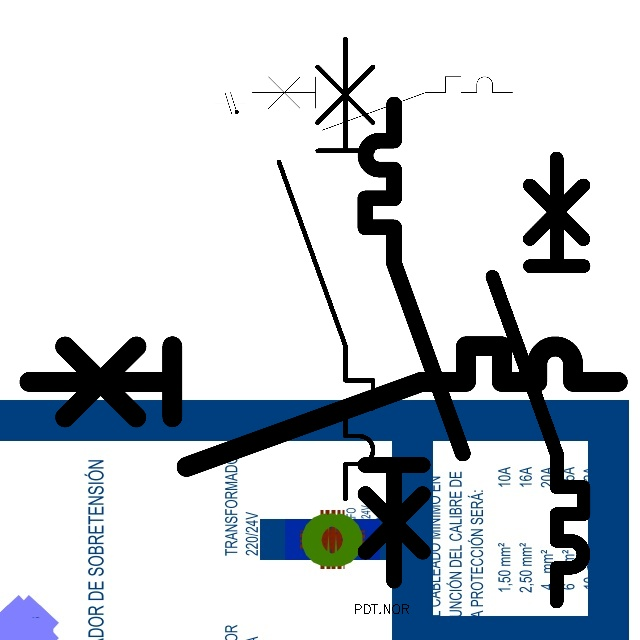interruptor_termomagnetico: (14, 331, 633, 482), (353, 92, 475, 593), (267, 27, 385, 511), (481, 147, 595, 613), (245, 70, 518, 137)
